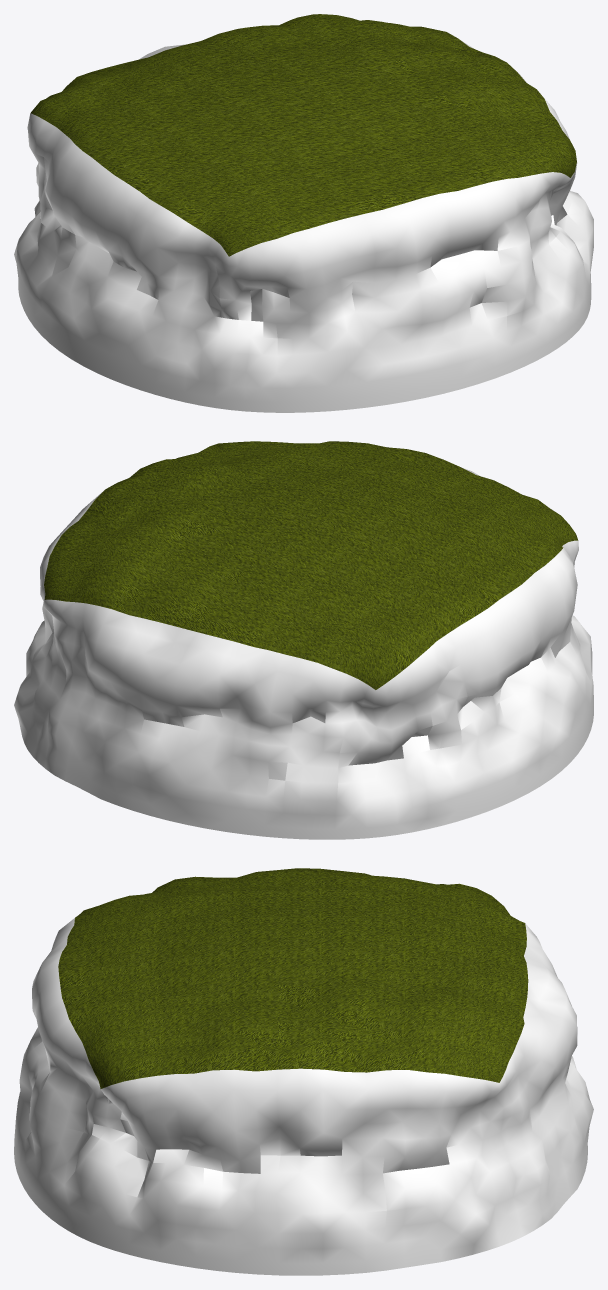
Rendered from PlatformGrass5_LOD0.fbx.
3 renders of one model, top to bottom at view 1: azimuth 30°, elevation 25°; view 2: azimuth 150°, elevation 25°; view 3: azimuth 270°, elevation 25°, orthographic. The views are drawn at different scales.
Visible parts, largest first — view 1: Mesh; view 2: Mesh; view 3: Mesh.
Part boxes in pixels (bbox=[...]): Mesh: bbox=[14, 14, 593, 412]; Mesh: bbox=[14, 441, 593, 839]; Mesh: bbox=[14, 868, 593, 1275].
Size of the model in its own units: 4032 by 1585 by 3981.
